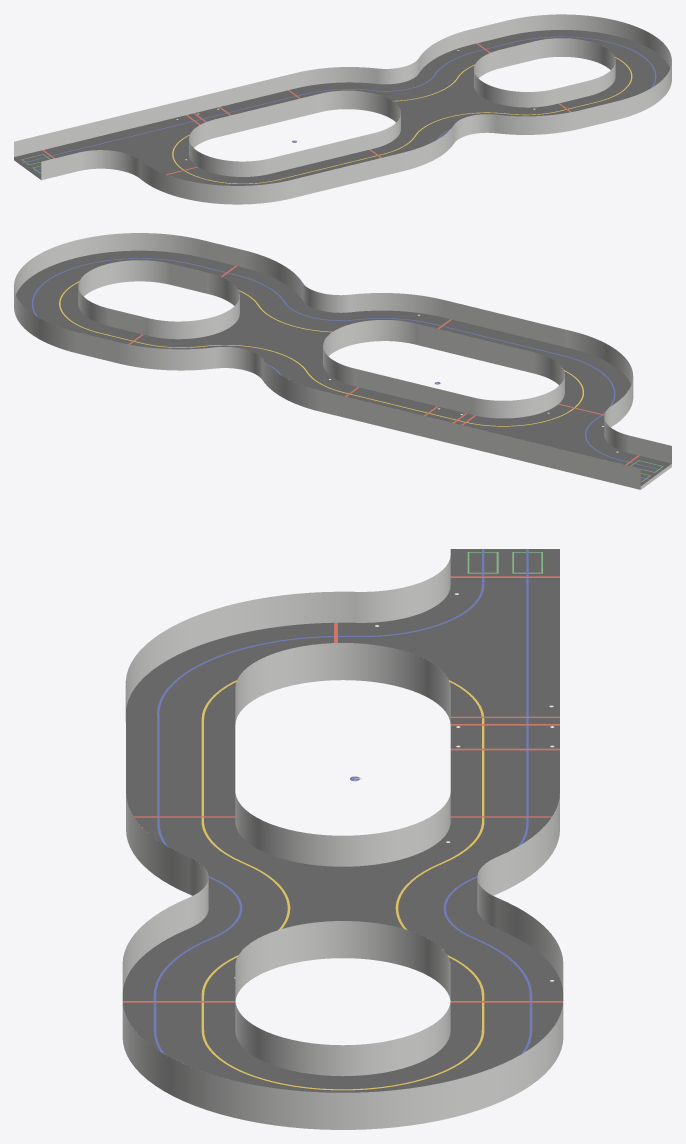
Rendered from Medium_4_way.dae.
The picture shows the model from 3 angles, top to bottom: view 1: azimuth 30°, elevation 25°; view 2: azimuth 150°, elevation 25°; view 3: azimuth 270°, elevation 25°; orthographic projection. The views are drawn at different scales.
Parts seen in each view (by area): view 1: Medium 4 Way; view 2: Medium 4 Way; view 3: Medium 4 Way.
Part boxes in pixels (x1,y1,x2,y2): Medium 4 Way: (14, 14, 671, 204); Medium 4 Way: (14, 233, 671, 489); Medium 4 Way: (122, 549, 563, 1129).
Bounding box in the file's own units: 10.11 × 3.28 × 0.3048.
